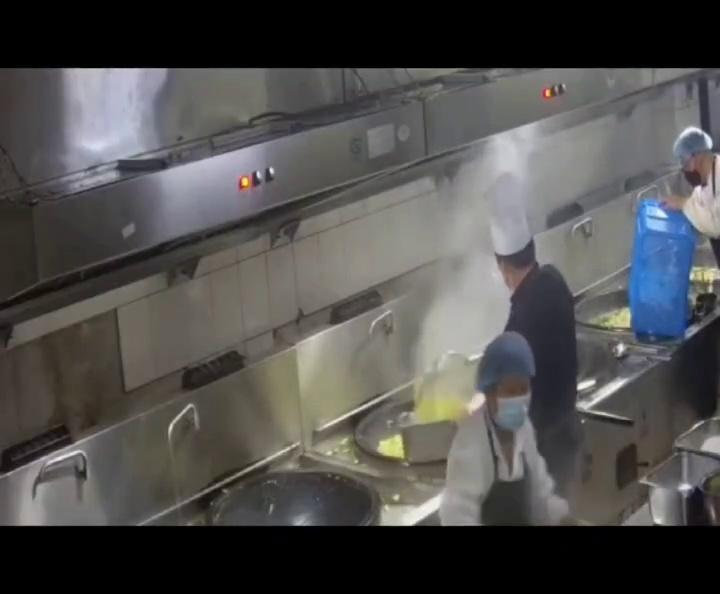gloves: (469, 328, 541, 388), (670, 124, 716, 158)
mask: (486, 390, 538, 433), (674, 163, 712, 188)
